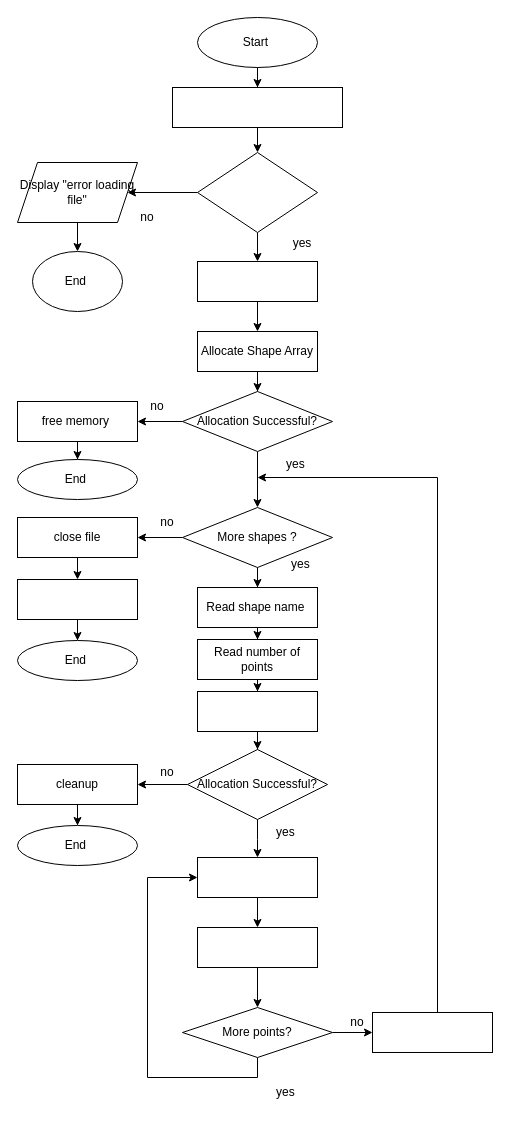
This 510x1125 diagram has some shape labels left out. The shapes that lost their labels are listed below. From the top down, each one's centre as x and y in pixels, then its label:
(257,107): Open ShapesStrokeData.Txt File
(257,192): Did file open successfully?
(257,281): Read NumShapes
(77,599): return shape data
(257,711): Allocate Point Array
(257,877): read X Y P
(257,947): store point
(432,1032): store shape
